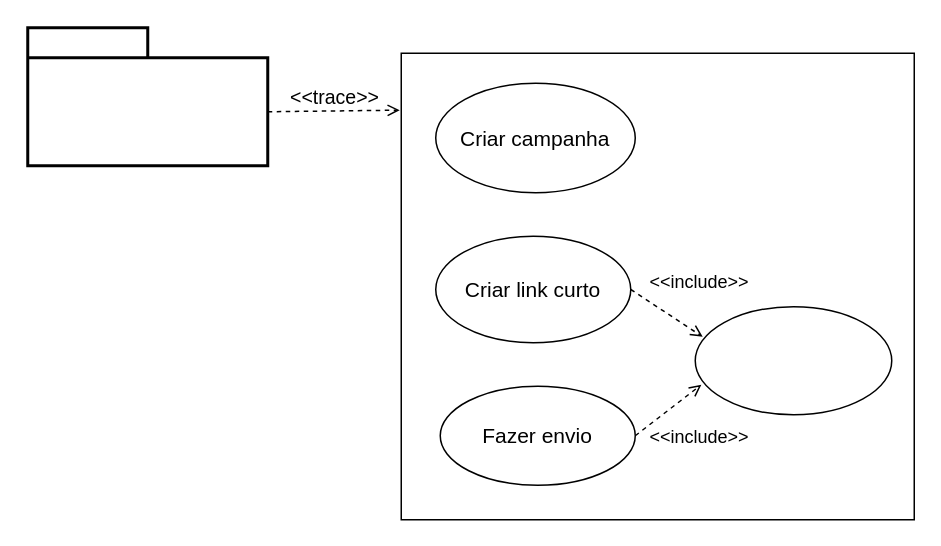
Some shapes in this 941 by 546 pixel diagram are drawn without their labels. Each missing label, with the centre of its shape:
"Package - CAMPANHAS" goes at point 147,96.
"Visualizar campanha" goes at point 793,360.
